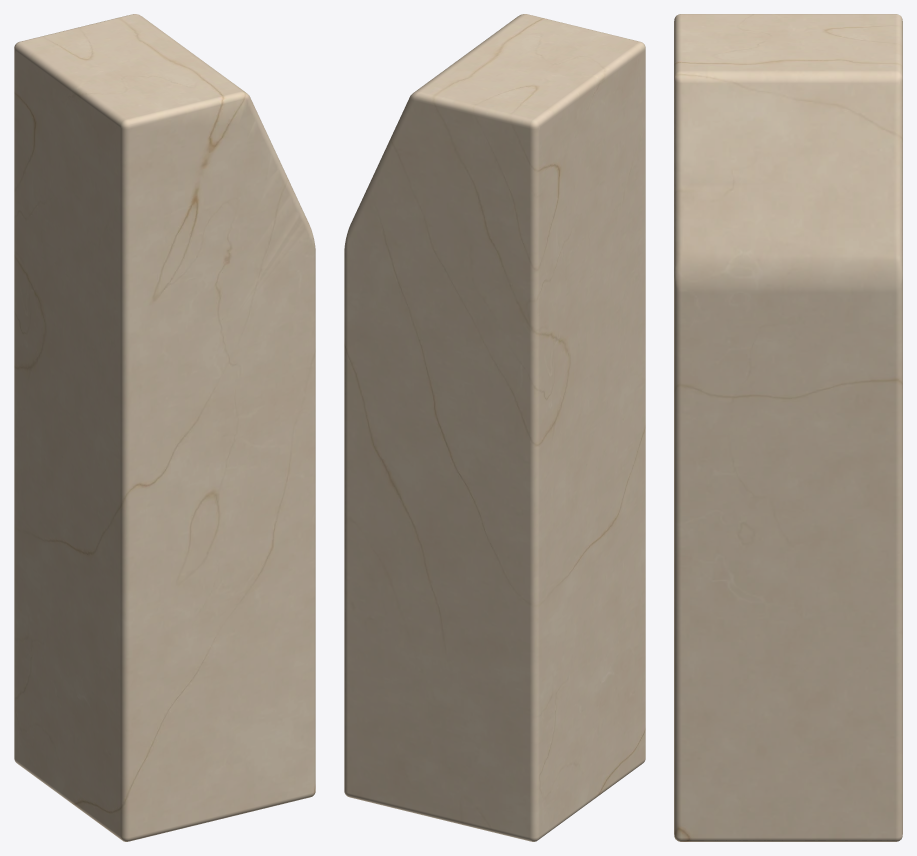
Rendered from bishop-white.glb.
The picture shows the model from 3 angles, left to right: view 1: azimuth 30°, elevation 25°; view 2: azimuth 150°, elevation 25°; view 3: azimuth 270°, elevation 25°; orthographic projection.
Visible parts, largest first — view 1: strelec_bily; view 2: strelec_bily; view 3: strelec_bily.
Part boxes in pixels (box(x1,y1,x2,y2)): strelec_bily: box(14, 14, 315, 841); strelec_bily: box(344, 14, 645, 841); strelec_bily: box(674, 14, 902, 841).
Bounding box in the file's own units: 0.4281 × 1.52 × 0.4281.
Materials: 1 (1 with a texture image).
